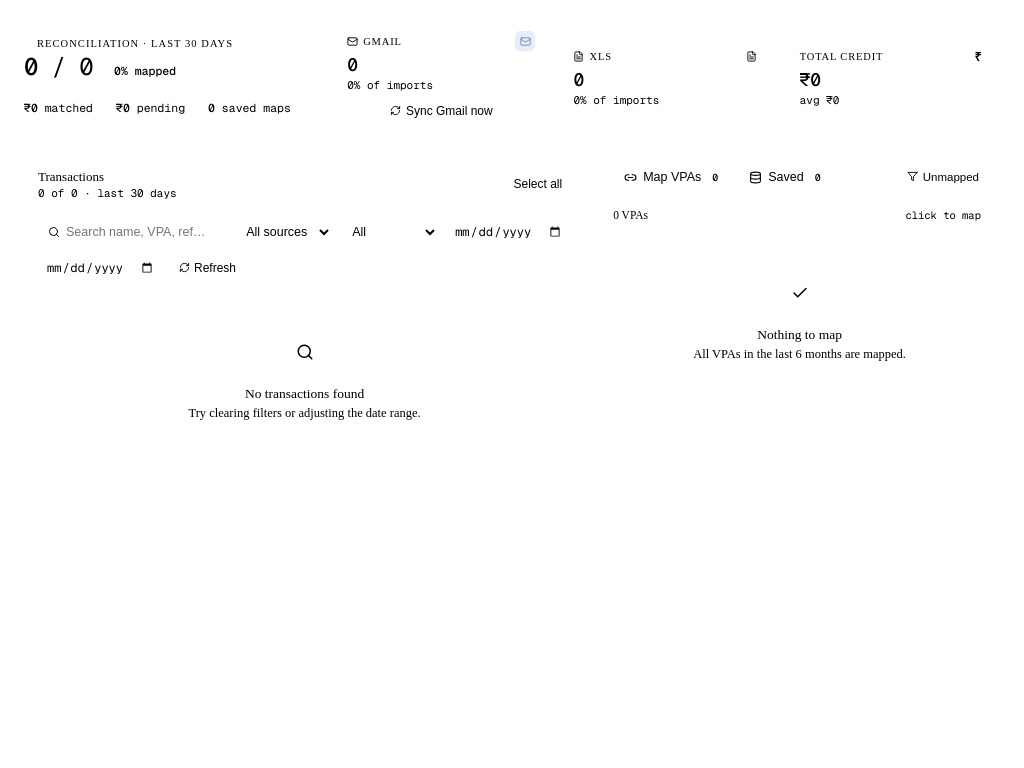
Test case: Sync Gmail now on the UPI page (MN-06) › shows a busy state while syncing and cannot be pressed twice
The width and height of the screenshot is (1024, 768).
Click the button with test id "sync-gmail": [441, 111] box x1=347 y1=100 x2=536 y2=122
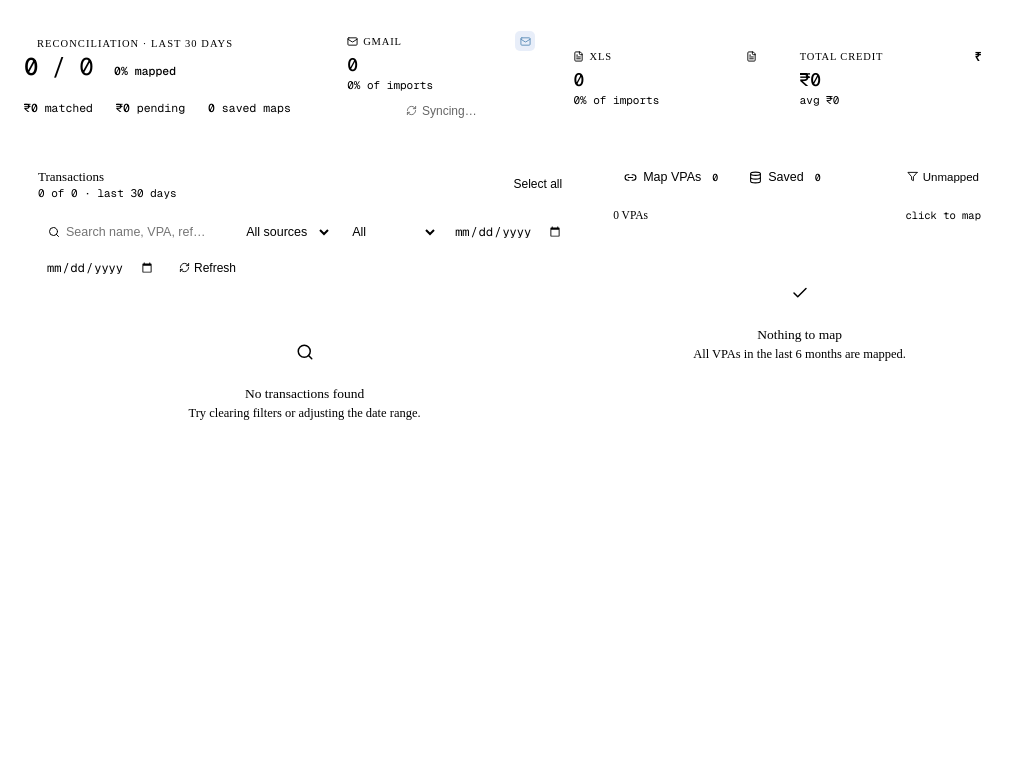
Check: the button with test id "sync-gmail" is disabled
Check: the button with test id "sync-gmail" reads "Syncing…"
Click the button with test id "sync-gmail": [441, 111] box x1=347 y1=100 x2=536 y2=122
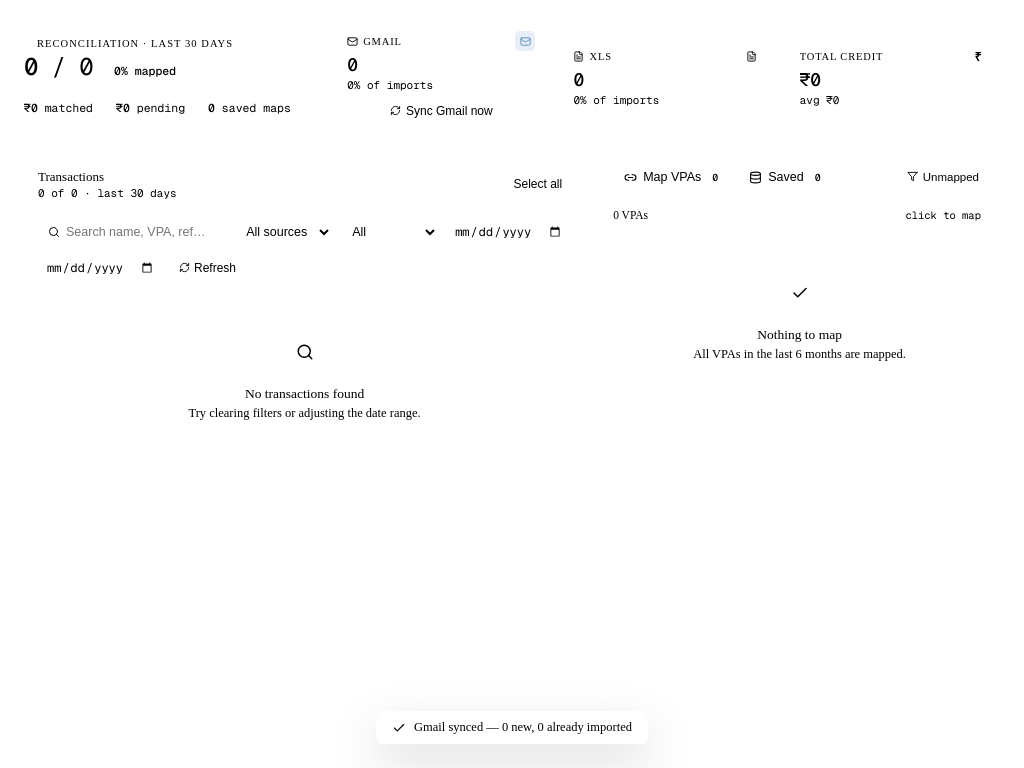
Check: the button with test id "sync-gmail" is enabled, box x1=347 y1=100 x2=536 y2=122
Check: the button with test id "sync-gmail" reads "Sync Gmail now", box x1=347 y1=100 x2=536 y2=122
